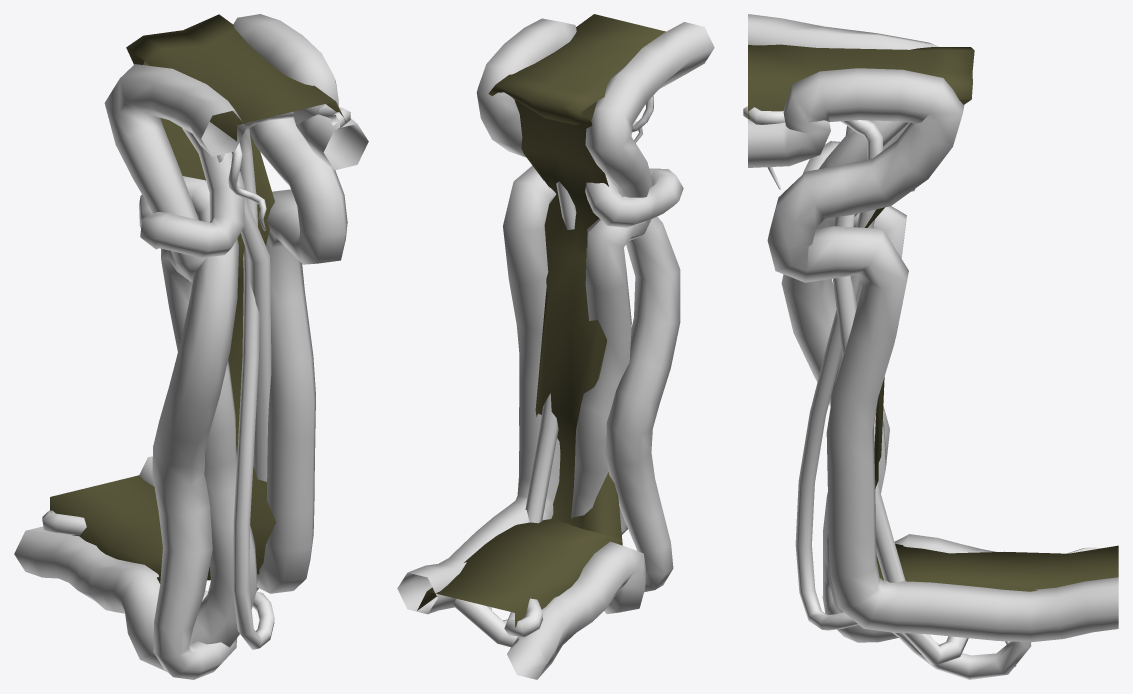
Rendered from Astep_v2.fbx.
3 views of the same model, side by side, from view 1: azimuth 30°, elevation 25°; view 2: azimuth 150°, elevation 25°; view 3: azimuth 270°, elevation 25° (orthographic). The views are drawn at different scales.
Visible parts, largest first — view 1: NurbsPath.007, DummyPlane.010, DummyPlane.vertical.A; view 2: NurbsPath.007, DummyPlane.010, DummyPlane.vertical.A; view 3: NurbsPath.007, DummyPlane.010, DummyPlane.vertical.A.
Part boxes in pixels (x1,y1,x2,y2): NurbsPath.007: [14, 14, 368, 679]; DummyPlane.010: [50, 14, 346, 583]; DummyPlane.vertical.A: [160, 118, 276, 582]; NurbsPath.007: [397, 18, 714, 679]; DummyPlane.010: [417, 14, 665, 627]; DummyPlane.vertical.A: [514, 99, 622, 543]; NurbsPath.007: [743, 14, 1118, 679]; DummyPlane.010: [748, 44, 1118, 591]; DummyPlane.vertical.A: [865, 207, 884, 572].
Bounding box in the file's own units: 110 × 372 × 202.
